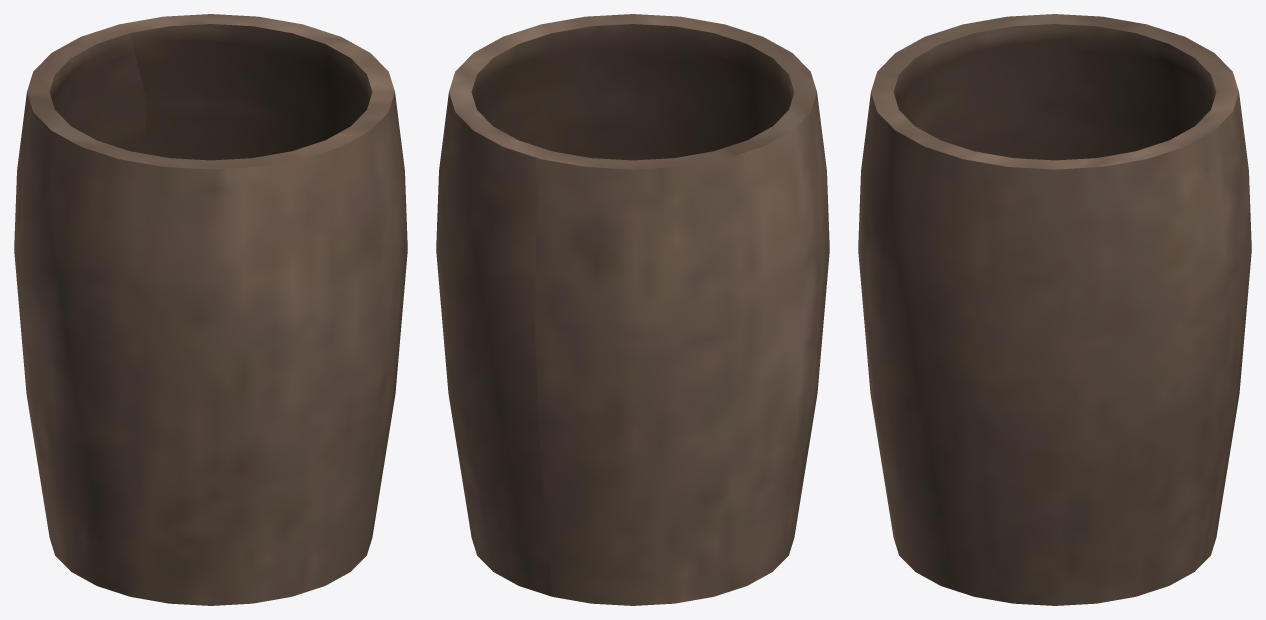
The model's file is SM_Wooden_cup_2.FBX.
3 views of the same model, side by side, from view 1: azimuth 30°, elevation 25°; view 2: azimuth 150°, elevation 25°; view 3: azimuth 270°, elevation 25° (orthographic).
Parts seen in each view (by area): view 1: SM_Wooden_cup_2; view 2: SM_Wooden_cup_2; view 3: SM_Wooden_cup_2.
Part boxes in pixels (left/top/right/bottom): SM_Wooden_cup_2: left=14, top=14, right=407, bottom=605; SM_Wooden_cup_2: left=436, top=14, right=829, bottom=605; SM_Wooden_cup_2: left=858, top=14, right=1251, bottom=605.
Bounding box in the file's own units: 8 × 10 × 8.
